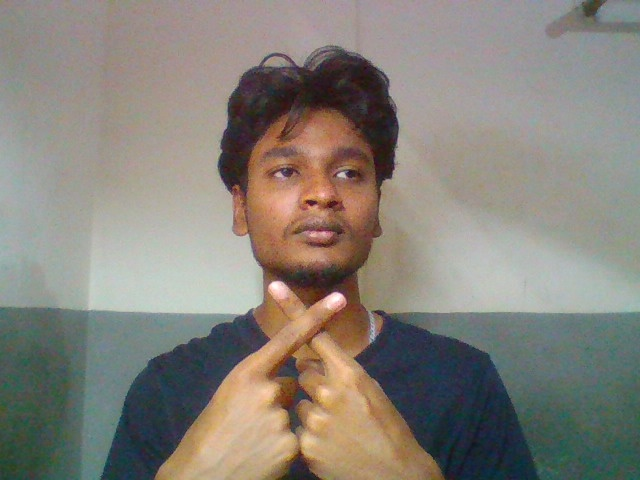X: (164, 265, 460, 480)
